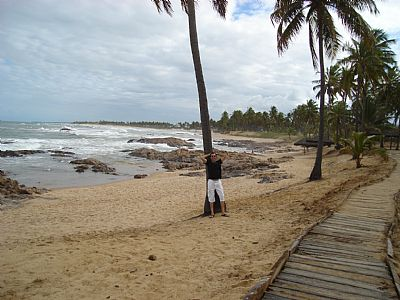Humano: (197, 151, 233, 218)
